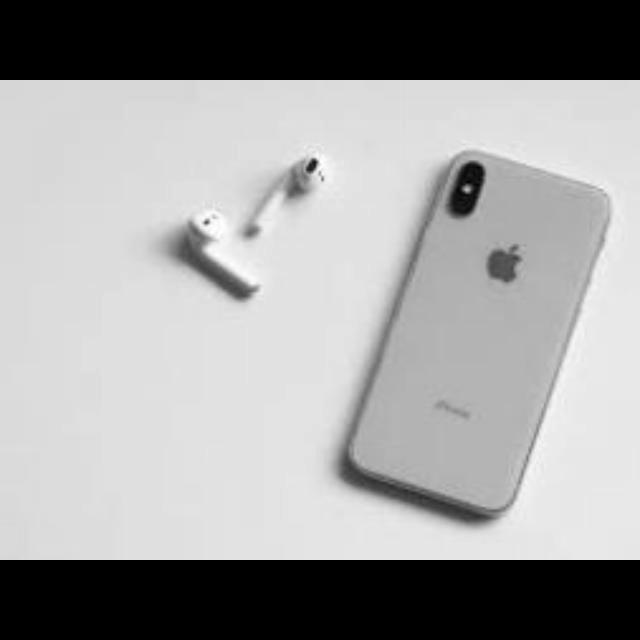fake: (318, 142, 616, 538)
